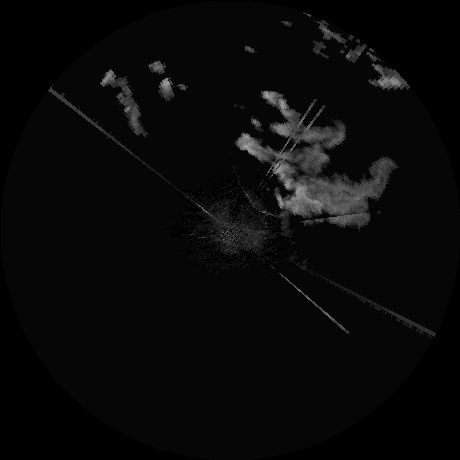frontgust: (240, 189, 289, 219)
